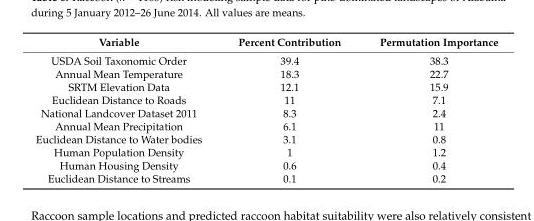table: (34, 35, 497, 184)
table column: (34, 35, 219, 184), (219, 35, 359, 184), (359, 35, 497, 184)
table column header: (34, 35, 497, 51)
table row: (34, 35, 497, 51), (34, 51, 497, 66), (34, 79, 497, 93), (34, 66, 497, 79), (34, 93, 497, 106), (34, 106, 497, 119), (34, 119, 497, 132), (34, 132, 497, 145), (34, 145, 497, 158), (34, 158, 497, 171), (34, 171, 497, 184)
